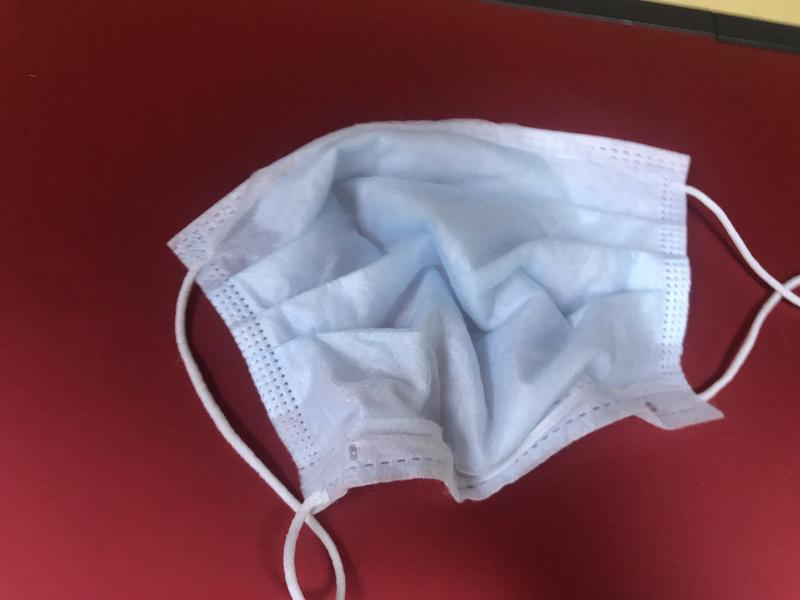medical_mask: (170, 118, 793, 600)
